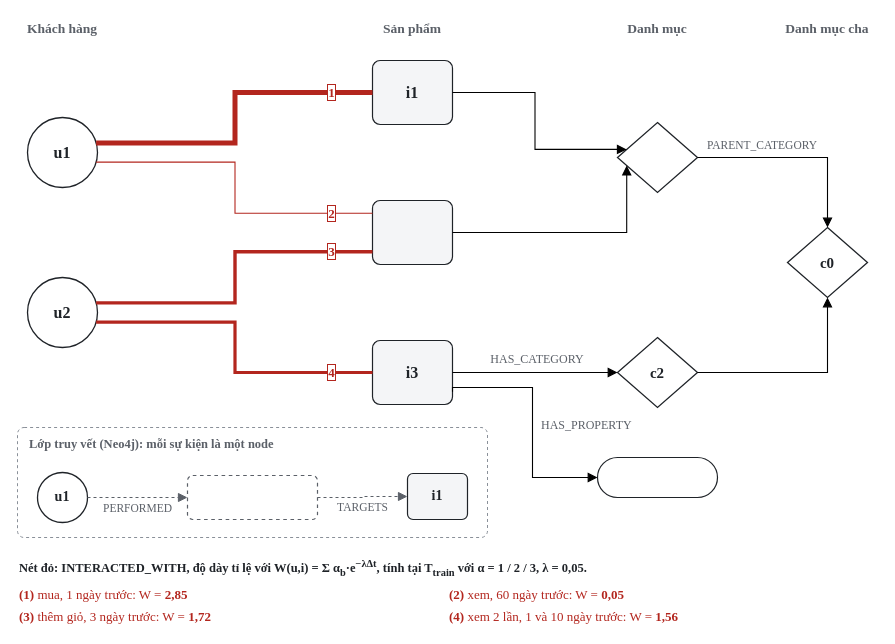
The diagram is 895 pixels wide and 644 high, and some of its shapes have lost their labels. Each missing label, with the box of its shape:
c1: (616, 121, 698, 193)
Event mua · 06/08/2015: (186, 474, 318, 520)
i2: (371, 199, 453, 265)
màu = đỏ: (596, 456, 718, 498)
